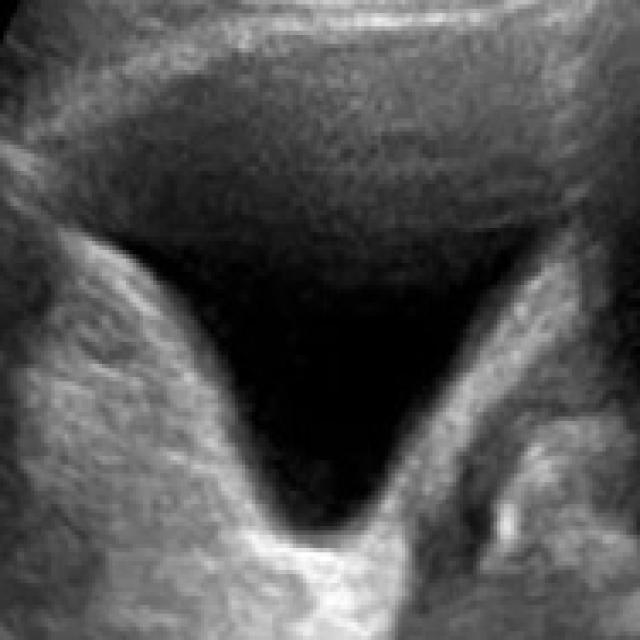bladder: (4, 3, 598, 600)
